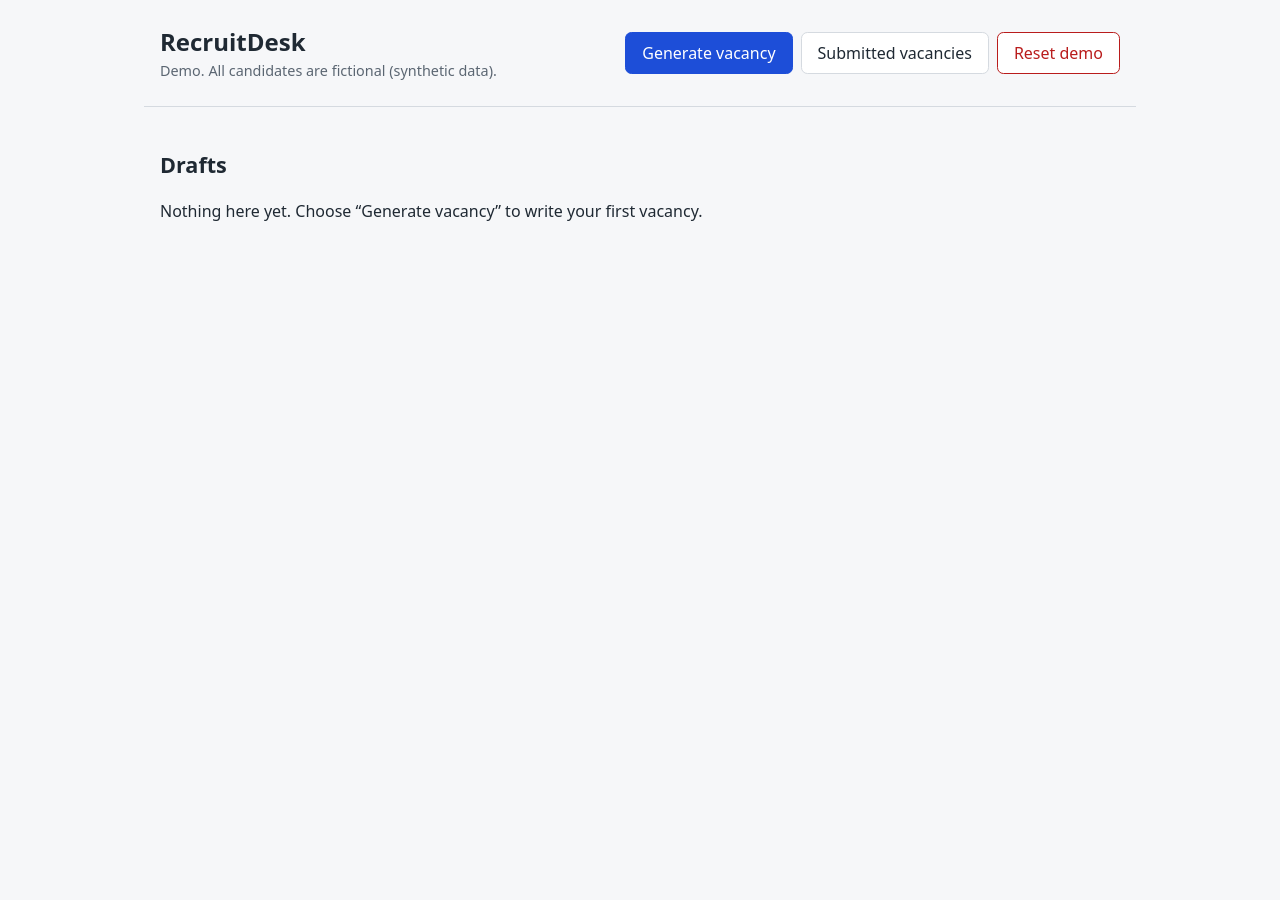
it: incomplete choices are explained and nothing is sent
Step 1. Click the button "Generate vacancy" → (709, 53), box [625, 32, 793, 74]
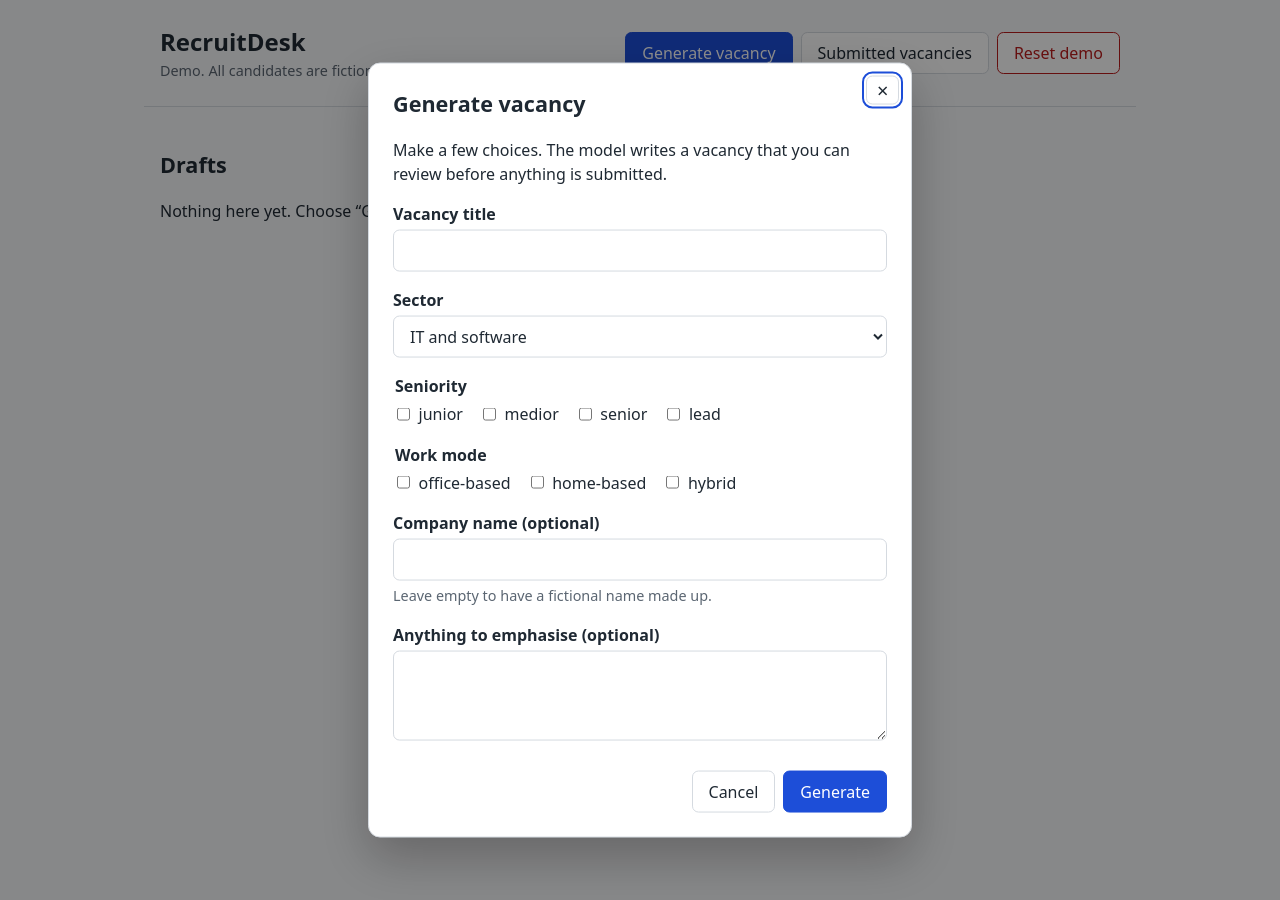
Check: the field labelled "Vacancy title" is shown, box [393, 230, 887, 272]
Step 2. Click the button "Generate" → (835, 792), box [783, 770, 887, 812]
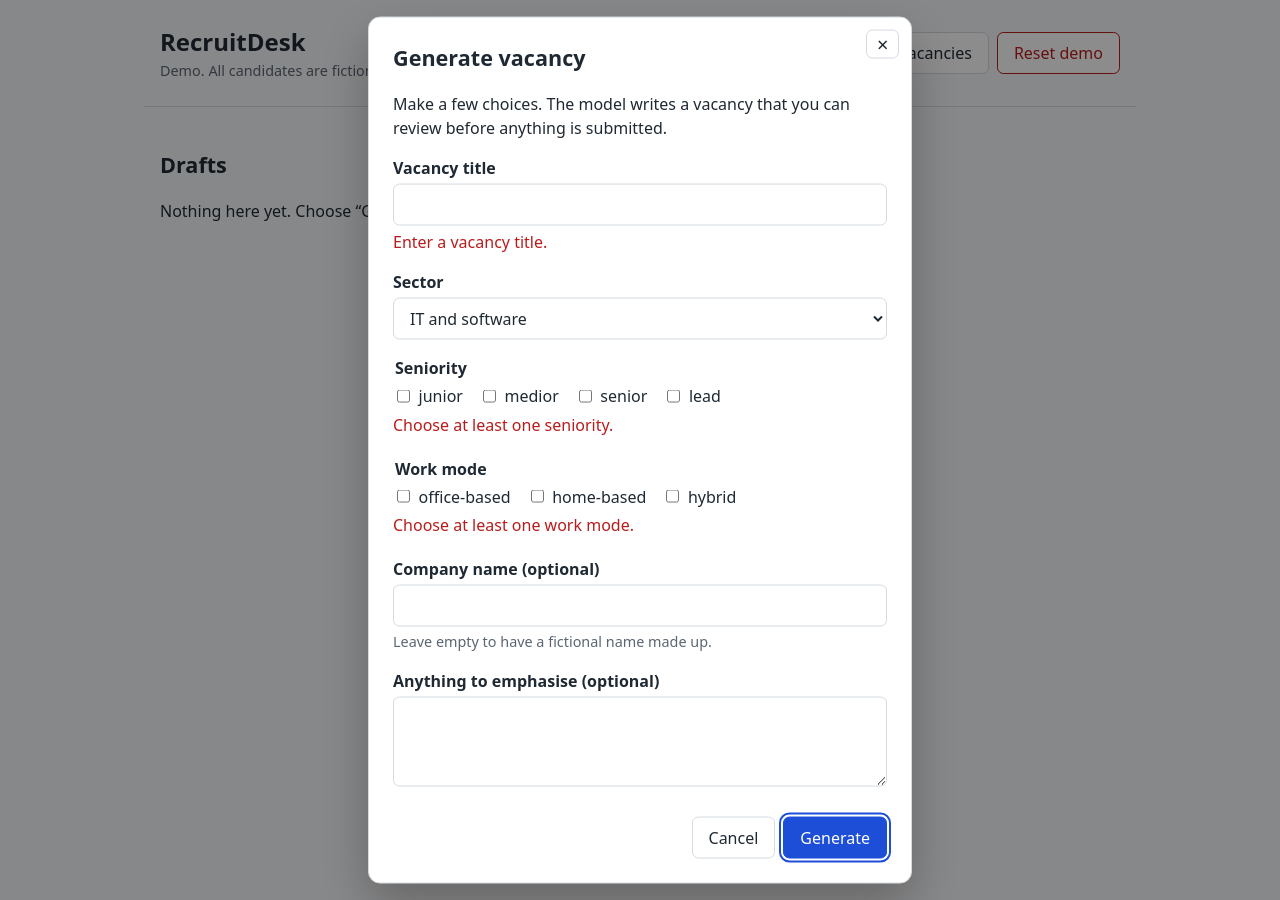
Check: the text "Enter a vacancy title." is shown, box [393, 231, 547, 253]
Check: the text "Choose at least one seniority." is shown, box [393, 413, 613, 435]
Check: the text "Choose at least one work mode." is shown, box [393, 514, 634, 536]
